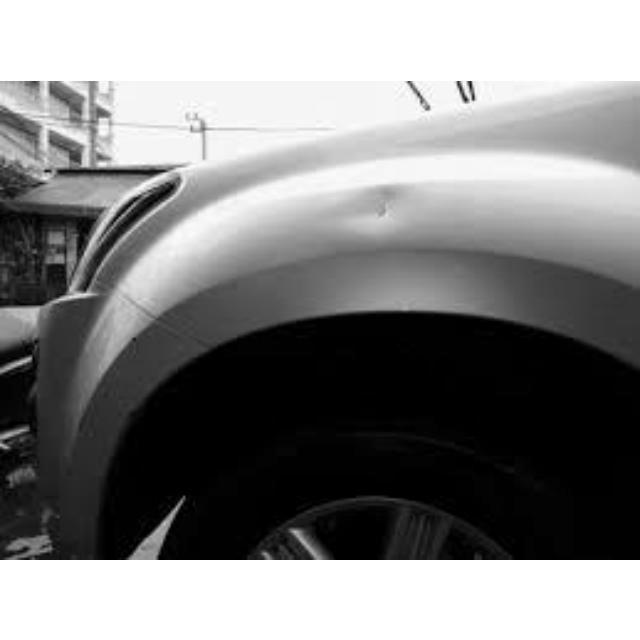fender-dent: (107, 170, 638, 441)
